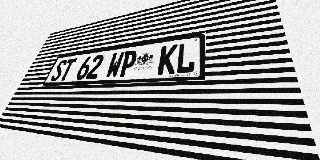2: (85, 54, 105, 79)
6: (75, 56, 94, 80)
K: (157, 44, 178, 75)
L: (175, 42, 196, 74)
P: (118, 50, 138, 77)
S: (49, 59, 68, 81)
T: (58, 58, 77, 81)
W: (105, 51, 125, 78)
